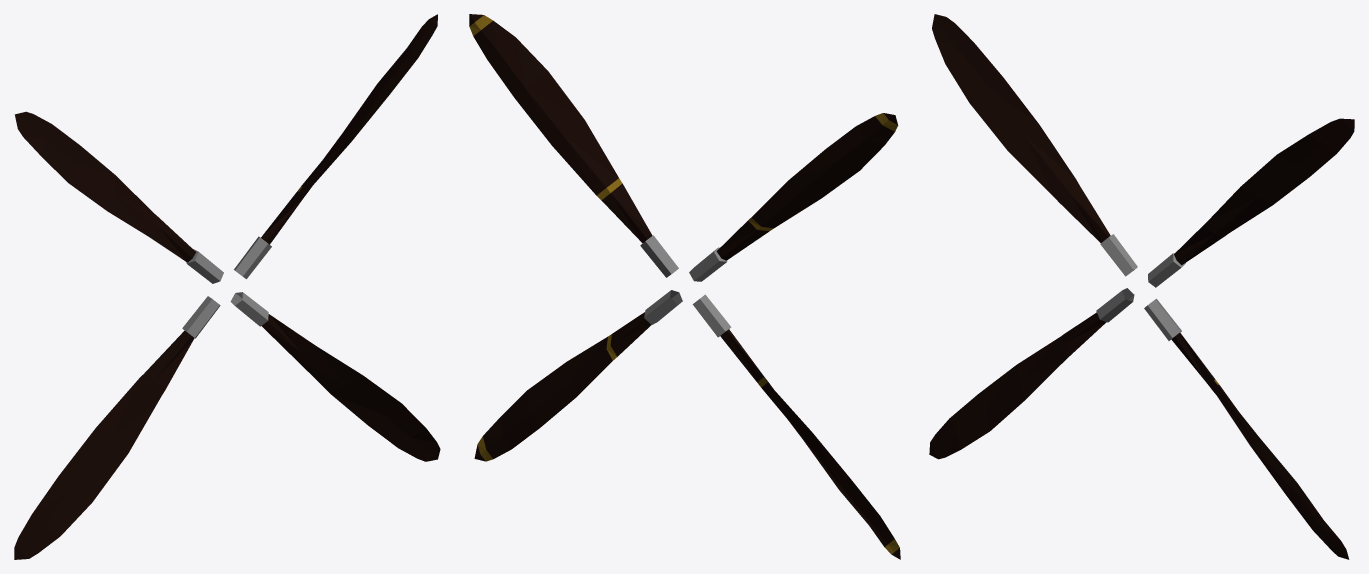
The model's file is Prop_B7A2NP.obj.
The picture shows the model from 3 angles, left to right: view 1: azimuth 30°, elevation 25°; view 2: azimuth 150°, elevation 25°; view 3: azimuth 330°, elevation 25°; orthographic projection.
Visible parts, largest first — view 1: ShapeIndexedFaceSet.164_ShapeIndexedFaceSet.165, ShapeIndexedFaceSet.167_ShapeIndexedFaceSet.168, ShapeIndexedFaceSet.161_ShapeIndexedFaceSet.162, ShapeIndexedFaceSet.158_ShapeIndexedFaceSet.159, ShapeIndexedFaceSet.160_ShapeIndexedFaceSet.161, ShapeIndexedFaceSet.166_ShapeIndexedFaceSet.167, ShapeIndexedFaceSet.169_ShapeIndexedFaceSet.170, ShapeIndexedFaceSet.163_ShapeIndexedFaceSet.164; view 2: ShapeIndexedFaceSet.158_ShapeIndexedFaceSet.159, ShapeIndexedFaceSet.161_ShapeIndexedFaceSet.162, ShapeIndexedFaceSet.167_ShapeIndexedFaceSet.168, ShapeIndexedFaceSet.164_ShapeIndexedFaceSet.165, ShapeIndexedFaceSet.166_ShapeIndexedFaceSet.167, ShapeIndexedFaceSet.160_ShapeIndexedFaceSet.161, ShapeIndexedFaceSet.169_ShapeIndexedFaceSet.170, ShapeIndexedFaceSet.163_ShapeIndexedFaceSet.164; view 3: ShapeIndexedFaceSet.161_ShapeIndexedFaceSet.162, ShapeIndexedFaceSet.158_ShapeIndexedFaceSet.159, ShapeIndexedFaceSet.164_ShapeIndexedFaceSet.165, ShapeIndexedFaceSet.167_ShapeIndexedFaceSet.168, ShapeIndexedFaceSet.169_ShapeIndexedFaceSet.170, ShapeIndexedFaceSet.163_ShapeIndexedFaceSet.164, ShapeIndexedFaceSet.166_ShapeIndexedFaceSet.167, ShapeIndexedFaceSet.160_ShapeIndexedFaceSet.161.
Boxes of the visible parts, x1=… form: ShapeIndexedFaceSet.164_ShapeIndexedFaceSet.165: x1=14, y1=330, x2=194, y2=559; ShapeIndexedFaceSet.167_ShapeIndexedFaceSet.168: x1=262, y1=314, x2=440, y2=461; ShapeIndexedFaceSet.161_ShapeIndexedFaceSet.162: x1=14, y1=111, x2=195, y2=262; ShapeIndexedFaceSet.158_ShapeIndexedFaceSet.159: x1=261, y1=14, x2=437, y2=244; ShapeIndexedFaceSet.160_ShapeIndexedFaceSet.161: x1=234, y1=236, x2=271, y2=279; ShapeIndexedFaceSet.166_ShapeIndexedFaceSet.167: x1=182, y1=296, x2=220, y2=338; ShapeIndexedFaceSet.169_ShapeIndexedFaceSet.170: x1=230, y1=292, x2=268, y2=326; ShapeIndexedFaceSet.163_ShapeIndexedFaceSet.164: x1=186, y1=249, x2=223, y2=283; ShapeIndexedFaceSet.158_ShapeIndexedFaceSet.159: x1=469, y1=14, x2=652, y2=243; ShapeIndexedFaceSet.161_ShapeIndexedFaceSet.162: x1=716, y1=113, x2=897, y2=260; ShapeIndexedFaceSet.167_ShapeIndexedFaceSet.168: x1=474, y1=312, x2=650, y2=461; ShapeIndexedFaceSet.164_ShapeIndexedFaceSet.165: x1=720, y1=329, x2=900, y2=559; ShapeIndexedFaceSet.166_ShapeIndexedFaceSet.167: x1=692, y1=294, x2=731, y2=337; ShapeIndexedFaceSet.160_ShapeIndexedFaceSet.161: x1=640, y1=235, x2=678, y2=277; ShapeIndexedFaceSet.169_ShapeIndexedFaceSet.170: x1=644, y1=290, x2=682, y2=324; ShapeIndexedFaceSet.163_ShapeIndexedFaceSet.164: x1=689, y1=247, x2=727, y2=281; ShapeIndexedFaceSet.161_ShapeIndexedFaceSet.162: x1=932, y1=14, x2=1110, y2=242; ShapeIndexedFaceSet.158_ShapeIndexedFaceSet.159: x1=1174, y1=118, x2=1354, y2=265; ShapeIndexedFaceSet.164_ShapeIndexedFaceSet.165: x1=929, y1=312, x2=1106, y2=459; ShapeIndexedFaceSet.167_ShapeIndexedFaceSet.168: x1=1171, y1=332, x2=1349, y2=559; ShapeIndexedFaceSet.169_ShapeIndexedFaceSet.170: x1=1144, y1=298, x2=1181, y2=340; ShapeIndexedFaceSet.163_ShapeIndexedFaceSet.164: x1=1100, y1=234, x2=1137, y2=276; ShapeIndexedFaceSet.166_ShapeIndexedFaceSet.167: x1=1096, y1=288, x2=1134, y2=322; ShapeIndexedFaceSet.160_ShapeIndexedFaceSet.161: x1=1148, y1=253, x2=1185, y2=287.
Size of the model in its own units: 1.75 by 1.75 by 0.0947.
